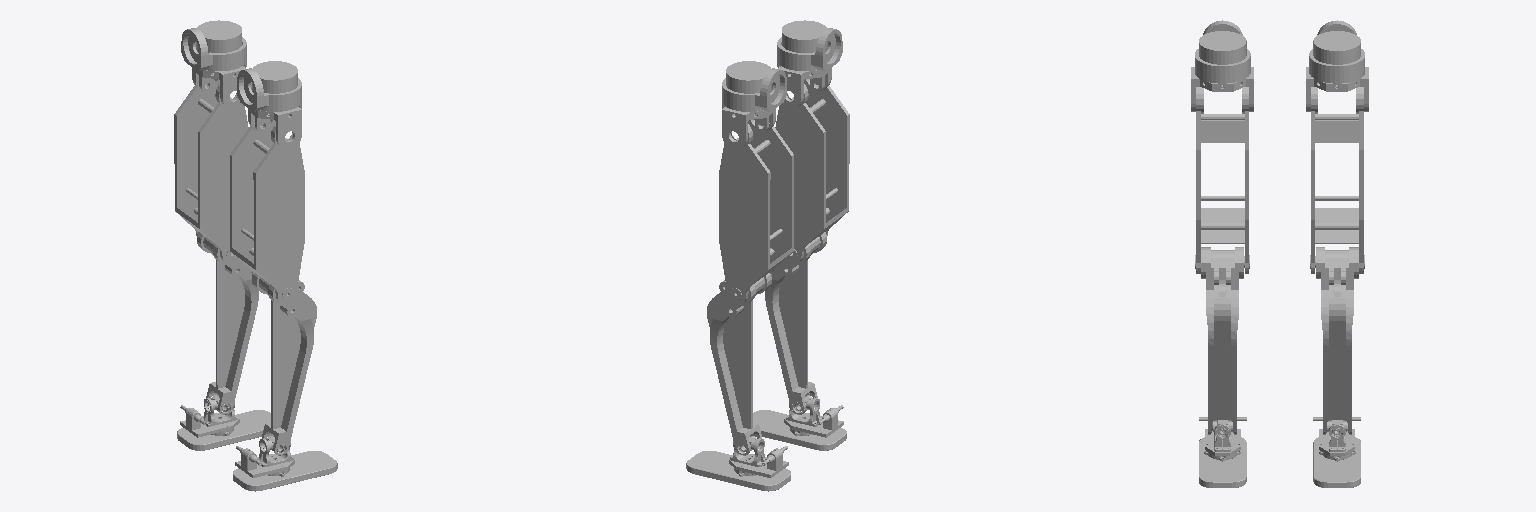
robot.urdf — URDF_simple:
<?xml version="1.0" encoding="utf-8"?>
<!-- This URDF was automatically created by SolidWorks to URDF Exporter! Originally created by [author] ([email redacted]) 
     Commit Version: 1.6.0-1-g15f4949  Build Version: 1.6.7594.29634
     For more information, please see http://wiki.ros.org/sw_urdf_exporter -->
<robot
  name="URDF_simple">

  <!-- <link
    name="world">
  </link>  
  <joint name="floating_joint"  type="floating">
    <origin rpy="0. 0. 0." xyz="0. 0. 0"/>
    <parent link="world" />
    <child  link="base_link" />
  </joint> -->
  <gazebo>
    <plugin name="gazebo_ros_control" filename="libhunter_bipedal_hw_sim.so">
      <robotNamespace>/</robotNamespace>
      <robotParam>legged_robot_description</robotParam>
      <robotSimType>legged_gazebo/LeggedHWSim</robotSimType>
    </plugin>
  </gazebo>

  <gazebo>
    <plugin filename="libgazebo_ros_p3d.so" name="p3d_base_controller">
      <alwaysOn>true</alwaysOn>
      <updateRate>500.0</updateRate>
      <bodyName>base_link</bodyName>
      <topicName>ground_truth/state</topicName>
      <gaussianNoise>0</gaussianNoise>
      <frameName>world</frameName>
      <xyzOffsets>0 0 0</xyzOffsets>
      <rpyOffsets>0 0 0</rpyOffsets>
    </plugin>
  </gazebo>



  <link
    name="base_link">
    <inertial>
      <origin
        xyz="-0.0102396246406552 0.00854684129585948 0.0332945972401038"
        rpy="0 0 0" />
      <mass
        value="46.7274022031895" />
      <inertia
        ixx="0.960922201093069"
        ixy="0.000109319164800288"
        ixz="0.0492534639952522"
        iyy="0.760619645967608"
        iyz="-0.000255202085830921"
        izz="0.432460212521213" />
    </inertial>
    <visual>
      <origin
        xyz="0 0 0"
        rpy="0 0 0" />
      <geometry>
        <mesh
          filename="package://URDF_simple/meshes/base_link.STL" />
      </geometry>
      <material
        name="">
        <color
          rgba="0.752941176470588 0.752941176470588 0.752941176470588 1" />
      </material>
    </visual>
    <collision>
      <origin
        xyz="0 0 0"
        rpy="0 0 0" />
      <geometry>
        <mesh
          filename="package://URDF_simple/meshes/base_link.STL" />
      </geometry>
    </collision>
  </link>

  <link
    name="LHipRoll_link">
    <inertial>
      <origin
        xyz="0.13021928809687 3.33066907387547E-16 -0.00888568839028298"
        rpy="0 0 0" />
      <mass
        value="1.69434323504352" />
      <inertia
        ixx="0.00199665914671213"
        ixy="-2.12485609700659E-19"
        ixz="0.000146534373681756"
        iyy="0.00223922130841761"
        iyz="-2.03786990884474E-19"
        izz="0.00300599284958996" />
    </inertial>
    <visual>
      <origin
        xyz="0 0 0"
        rpy="0 0 0" />
      <geometry>
        <mesh
          filename="package://URDF_simple/meshes/LHipRoll_link.STL" />
      </geometry>
      <material
        name="">
        <color
          rgba="0.752941176470588 0.752941176470588 0.752941176470588 1" />
      </material>
    </visual>
    <collision>
      <origin
        xyz="0 0 0"
        rpy="0 0 0" />
      <geometry>
        <mesh
          filename="package://URDF_simple/meshes/LHipRoll_link.STL" />
      </geometry>
    </collision>
  </link>
  <joint
    name="LHipRoll"
    type="revolute">
    <origin
      xyz="-0.122 0.12 -0.16643"
      rpy="0 0 0" />
    <parent
      link="base_link" />
    <child
      link="LHipRoll_link" />
    <axis
      xyz="1 0 0" />
    <limit
      lower="-3.14"
      upper="3.14"
      effort="1000"
      velocity="1000" />
  </joint>
  <link
    name="LHipYaw_link">
    <inertial>
      <origin
        xyz="-0.00269025547603879 1.11022302462516E-16 -0.0633712626847869"
        rpy="0 0 0" />
      <mass
        value="0.744057032961987" />
      <inertia
        ixx="0.001591459112424"
        ixy="-3.36057869246938E-20"
        ixz="-2.99060228521477E-05"
        iyy="0.000843060895021706"
        iyz="-2.60493997069846E-19"
        izz="0.00181197877707163" />
    </inertial>
    <visual>
      <origin
        xyz="0 0 0"
        rpy="0 0 0" />
      <geometry>
        <mesh
          filename="package://URDF_simple/meshes/LHipYaw_link.STL" />
      </geometry>
      <material
        name="">
        <color
          rgba="0.752941176470588 0.752941176470588 0.752941176470588 1" />
      </material>
    </visual>
    <collision>
      <origin
        xyz="0 0 0"
        rpy="0 0 0" />
      <geometry>
        <mesh
          filename="package://URDF_simple/meshes/LHipYaw_link.STL" />
      </geometry>
    </collision>
  </link>
  <joint
    name="LHipYaw"
    type="revolute">
    <origin
      xyz="0.135 0 -0.0029565"
      rpy="0 0 0" />
    <parent
      link="LHipRoll_link" />
    <child
      link="LHipYaw_link" />
    <axis
      xyz="0 0 1" />
    <limit
      lower="-3.14"
      upper="3.14"
      effort="1000"
      velocity="1000" />
  </joint>
  <link
    name="LHipPitch_link">
    <inertial>
      <origin
        xyz="-0.0168439785420255 -0.0610000000000015 -0.187953684008689"
        rpy="0 0 0" />
      <mass
        value="3.19020037536046" />
      <inertia
        ixx="0.0448919929501429"
        ixy="-3.2408522403589E-18"
        ixz="-0.00197401415020948"
        iyy="0.0410279037536727"
        iyz="3.00648495155626E-16"
        izz="0.011057403447688" />
    </inertial>
    <visual>
      <origin
        xyz="0 0 0"
        rpy="0 0 0" />
      <geometry>
        <mesh
          filename="package://URDF_simple/meshes/LHipPitch_link.STL" />
      </geometry>
      <material
        name="">
        <color
          rgba="0.752941176470588 0.752941176470588 0.752941176470588 1" />
      </material>
    </visual>
    <collision>
      <origin
        xyz="0 0 0"
        rpy="0 0 0" />
      <geometry>
        <mesh
          filename="package://URDF_simple/meshes/LHipPitch_link.STL" />
      </geometry>
    </collision>
  </link>
  <joint
    name="LHipPitch"
    type="revolute">
    <origin
      xyz="0 0.061 -0.101"
      rpy="0 0 0" />
    <parent
      link="LHipYaw_link" />
    <child
      link="LHipPitch_link" />
    <axis
      xyz="0 1 0" />
    <limit
      lower="-3.14"
      upper="3.14"
      effort="1000"
      velocity="1000" />
  </joint>
  <link
    name="LKneePitch_link">
    <inertial>
      <origin
        xyz="0.0349025911908908 -0.0554601382772695 -0.12480829356831"
        rpy="0 0 0" />
      <mass
        value="2.98268257269848" />
      <inertia
        ixx="0.0354601069454126"
        ixy="-9.37663403132723E-08"
        ixz="4.91066832515987E-05"
        iyy="0.0365565087036136"
        iyz="5.61041992304333E-08"
        izz="0.00327868744565483" />
    </inertial>
    <visual>
      <origin
        xyz="0 0 0"
        rpy="0 0 0" />
      <geometry>
        <mesh
          filename="package://URDF_simple/meshes/LKneePitch_link.STL" />
      </geometry>
      <material
        name="">
        <color
          rgba="0.752941176470588 0.752941176470588 0.752941176470588 1" />
      </material>
    </visual>
    <collision>
      <origin
        xyz="0 0 0"
        rpy="0 0 0" />
      <geometry>
        <mesh
          filename="package://URDF_simple/meshes/LKneePitch_link.STL" />
      </geometry>
    </collision>
  </link>
  <joint
    name="LKneePitch"
    type="revolute">
    <origin
      xyz="0.0001663 -0.0055 -0.38"
      rpy="0 0 0" />
    <parent
      link="LHipPitch_link" />
    <child
      link="LKneePitch_link" />
    <axis
      xyz="0 1 0" />
    <limit
      lower="-3.14"
      upper="3.14"
      effort="1000"
      velocity="1000" />
  </joint>
  <link
    name="LAnklePitch_link">
    <inertial>
      <origin
        xyz="1.52941798114981E-10 -0.0178499999976304 6.68354260824344E-14"
        rpy="0 0 0" />
      <mass
        value="0.259599480305956" />
      <inertia
        ixx="3.74006940089086E-05"
        ixy="-6.7133061834045E-17"
        ixz="-7.322581253912E-09"
        iyy="3.7400690644867E-05"
        iyz="1.5337500190006E-13"
        izz="5.41332571433322E-05" />
    </inertial>
    <visual>
      <origin
        xyz="0 0 0"
        rpy="0 0 0" />
      <geometry>
        <mesh
          filename="package://URDF_simple/meshes/LAnklePitch_link.STL" />
      </geometry>
      <material
        name="">
        <color
          rgba="0.752941176470588 0.752941176470588 0.752941176470588 1" />
      </material>
    </visual>
    <collision>
      <origin
        xyz="0 0 0"
        rpy="0 0 0" />
      <geometry>
        <mesh
          filename="package://URDF_simple/meshes/LAnklePitch_link.STL" />
      </geometry>
    </collision>
  </link>
  <joint
    name="LAnklePitch"
    type="revolute">
    <origin
      xyz="0.0001663 -0.03765 -0.38"
      rpy="0 0 0" />
    <parent
      link="LKneePitch_link" />
    <child
      link="LAnklePitch_link" />
    <axis
      xyz="0 1 0" />
    <limit
      lower="-3.14"
      upper="3.14"
      effort="1000"
      velocity="1000" />
  </joint>

  <!-- ************* part 6 *************** -->
  <joint
    name="LAnkleRoll"
    type="revolute">
    <origin
      xyz="0.01785 -0.01785 0"
      rpy="0 0 0" />
    <parent
      link="LAnklePitch_link" />
    <child
      link="LAnkleRoll_link" />
    <axis
      xyz="1 0 0.00043762" />
    <limit
      lower="-3.14"
      upper="3.14"
      effort="1000"
      velocity="1000" />
  </joint>
  <link
    name="LAnkleRoll_link">
    <inertial>
      <origin
        xyz="-0.00958187853867769 1.68361441710285E-05 -0.0593481777464786"
        rpy="0 0 0" />
      <mass
        value="1.71825340064192" />
      <inertia
        ixx="0.0010133350011228"
        ixy="-9.17868340566451E-07"
        ixz="2.94368797043498E-05"
        iyy="0.00420031756931061"
        iyz="-2.43706567584623E-09"
        izz="0.00508044717228725" />
    </inertial>
    <visual>
      <origin
        xyz="0 0 0"
        rpy="0 0 0" />
      <geometry>
        <mesh
          filename="package://URDF_simple/meshes/LAnkleRoll_link.STL" />
      </geometry>
      <material
        name="">
        <color
          rgba="0.752941176470588 0.752941176470588 0.752941176470588 1" />
      </material>
    </visual>
    <collision>
      <origin
        xyz="0 0 0"
        rpy="0 0 0" />
      <geometry>
        <mesh
          filename="package://URDF_simple/meshes/LAnkleRoll_link.STL" />
      </geometry>
    </collision>
  </link>
 
  <!-- ************* part 7 *************** --> 
  <joint name="l_foot_fixed_1" type="fixed">
    <origin xyz="0.13 0 -0.08" rpy="0 0 0" />
    <parent link="LAnkleRoll_link" />
    <child link="l_foot_fixed_link1" />
  </joint>
  <link name="l_foot_fixed_link1">
    <inertial>
      <mass value="0.01" />
      <inertia ixx="0.000001" ixy="0" ixz="0" iyy="0.000001" iyz="0" izz="0.000001" />
    </inertial>
    <visual>
      <origin rpy="0 0 0" xyz="0 0 0"/>
      <geometry>
        <sphere radius="0.001"/>
      </geometry>
    </visual>
    <collision>
      <origin rpy="0 0 0" xyz="0 0 0"/>
      <geometry>
        <sphere radius="0.001"/>
      </geometry>
    </collision>
  </link>


  <link
    name="RHipRoll_link">
    <inertial>
      <origin
        xyz="0.13021928809687 1.11022302462516E-16 -0.00888568839028285"
        rpy="0 0 0" />
      <mass
        value="1.69434323504352" />
      <inertia
        ixx="0.00199665914671213"
        ixy="-2.62275640677723E-19"
        ixz="0.000146534373681757"
        iyy="0.00223922130841761"
        iyz="-4.00059824495263E-19"
        izz="0.00300599284958996" />
    </inertial>
    <visual>
      <origin
        xyz="0 0 0"
        rpy="0 0 0" />
      <geometry>
        <mesh
          filename="package://URDF_simple/meshes/RHipRoll_link.STL" />
      </geometry>
      <material
        name="">
        <color
          rgba="0.752941176470588 0.752941176470588 0.752941176470588 1" />
      </material>
    </visual>
    <collision>
      <origin
        xyz="0 0 0"
        rpy="0 0 0" />
      <geometry>
        <mesh
          filename="package://URDF_simple/meshes/RHipRoll_link.STL" />
      </geometry>
    </collision>
  </link>
  <joint
    name="RHipRoll"
    type="revolute">
    <origin
      xyz="-0.122 -0.12 -0.16643"
      rpy="0 0 0" />
    <parent
      link="base_link" />
    <child
      link="RHipRoll_link" />
    <axis
      xyz="1 0 0" />
    <limit
      lower="-3.14"
      upper="3.14"
      effort="1000"
      velocity="1000" />
  </joint>
  <link
    name="RHipYaw_link">
    <inertial>
      <origin
        xyz="-0.00269025547603881 1.11022302462516E-16 -0.0633712626847868"
        rpy="0 0 0" />
      <mass
        value="0.744057032961986" />
      <inertia
        ixx="0.001591459112424"
        ixy="-1.51087704206769E-19"
        ixz="-2.99060228521479E-05"
        iyy="0.000843060895021705"
        iyz="3.86097413268211E-19"
        izz="0.00181197877707162" />
    </inertial>
    <visual>
      <origin
        xyz="0 0 0"
        rpy="0 0 0" />
      <geometry>
        <mesh
          filename="package://URDF_simple/meshes/RHipYaw_link.STL" />
      </geometry>
      <material
        name="">
        <color
          rgba="0.752941176470588 0.752941176470588 0.752941176470588 1" />
      </material>
    </visual>
    <collision>
      <origin
        xyz="0 0 0"
        rpy="0 0 0" />
      <geometry>
        <mesh
          filename="package://URDF_simple/meshes/RHipYaw_link.STL" />
      </geometry>
    </collision>
  </link>
  <joint
    name="RHipYaw"
    type="revolute">
    <origin
      xyz="0.135 0 -0.0029565"
      rpy="0 0 0" />
    <parent
      link="RHipRoll_link" />
    <child
      link="RHipYaw_link" />
    <axis
      xyz="0 0 1" />
    <limit
      lower="-3.14"
      upper="3.14"
      effort="1000"
      velocity="1000" />
  </joint>
  <link
    name="RHipPitch_link">
    <inertial>
      <origin
        xyz="-0.0168439785420255 0.0610000000000008 -0.187953684008689"
        rpy="0 0 0" />
      <mass
        value="3.19020037536046" />
      <inertia
        ixx="0.0448919929501428"
        ixy="7.29738664808629E-18"
        ixz="-0.0019740141502095"
        iyy="0.0410279037536726"
        iyz="-3.20880601577436E-16"
        izz="0.011057403447688" />
    </inertial>
    <visual>
      <origin
        xyz="0 0 0"
        rpy="0 0 0" />
      <geometry>
        <mesh
          filename="package://URDF_simple/meshes/RHipPitch_link.STL" />
      </geometry>
      <material
        name="">
        <color
          rgba="0.752941176470588 0.752941176470588 0.752941176470588 1" />
      </material>
    </visual>
    <collision>
      <origin
        xyz="0 0 0"
        rpy="0 0 0" />
      <geometry>
        <mesh
          filename="package://URDF_simple/meshes/RHipPitch_link.STL" />
      </geometry>
    </collision>
  </link>
  <joint
    name="RHipPitch"
    type="revolute">
    <origin
      xyz="0 -0.061 -0.101"
      rpy="0 0 0" />
    <parent
      link="RHipYaw_link" />
    <child
      link="RHipPitch_link" />
    <axis
      xyz="0 1 0" />
    <limit
      lower="-3.14"
      upper="3.14"
      effort="1000"
      velocity="1000" />
  </joint>
  <link
    name="RKneePitch_link">
    <inertial>
      <origin
        xyz="0.0349032514571332 0.0554602896633632 -0.124807783452119"
        rpy="0 0 0" />
      <mass
        value="2.9826686024511" />
      <inertia
        ixx="0.0354601272813468"
        ixy="9.30925198383976E-08"
        ixz="4.90193351948076E-05"
        iyy="0.0365564319398728"
        iyz="-3.73532507216229E-08"
        izz="0.00327857825019684" />
    </inertial>
    <visual>
      <origin
        xyz="0 0 0"
        rpy="0 0 0" />
      <geometry>
        <mesh
          filename="package://URDF_simple/meshes/RKneePitch_link.STL" />
      </geometry>
      <material
        name="">
        <color
          rgba="0.752941176470588 0.752941176470588 0.752941176470588 1" />
      </material>
    </visual>
    <collision>
      <origin
        xyz="0 0 0"
        rpy="0 0 0" />
      <geometry>
        <mesh
          filename="package://URDF_simple/meshes/RKneePitch_link.STL" />
      </geometry>
    </collision>
  </link>
  <joint
    name="RKneePitch"
    type="revolute">
    <origin
      xyz="0.0001663 0.0055 -0.38"
      rpy="0 0 0" />
    <parent
      link="RHipPitch_link" />
    <child
      link="RKneePitch_link" />
    <axis
      xyz="0 1 0" />
    <limit
      lower="-3.14"
      upper="3.14"
      effort="1000"
      velocity="1000" />
  </joint>
  <link
    name="RAnklePitch_link">
    <inertial>
      <origin
        xyz="1.52941798114981E-10 0.0178499999976304 6.67244037799719E-14"
        rpy="0 0 0" />
      <mass
        value="0.259599480305955" />
      <inertia
        ixx="3.74006940089085E-05"
        ixy="-6.71086737132119E-17"
        ixz="-7.3225812539616E-09"
        iyy="3.7400690644867E-05"
        iyz="1.53374995512301E-13"
        izz="5.41332571433322E-05" />
    </inertial>
    <visual>
      <origin
        xyz="0 0 0"
        rpy="0 0 0" />
      <geometry>
        <mesh
          filename="package://URDF_simple/meshes/RAnklePitch_link.STL" />
      </geometry>
      <material
        name="">
        <color
          rgba="0.752941176470588 0.752941176470588 0.752941176470588 1" />
      </material>
    </visual>
    <collision>
      <origin
        xyz="0 0 0"
        rpy="0 0 0" />
      <geometry>
        <mesh
          filename="package://URDF_simple/meshes/RAnklePitch_link.STL" />
      </geometry>
    </collision>
  </link>
  <joint
    name="RAnklePitch"
    type="revolute">
    <origin
      xyz="0.0001663 0.03765 -0.38"
      rpy="0 0 0" />
    <parent
      link="RKneePitch_link" />
    <child
      link="RAnklePitch_link" />
    <axis
      xyz="0 1 0" />
    <limit
      lower="-3.14"
      upper="3.14"
      effort="1000"
      velocity="1000" />
  </joint>
  <link
    name="RAnkleRoll_link">
    <inertial>
      <origin
        xyz="-0.00958187755410376 -1.68363041334052E-05 -0.0593481795417476"
        rpy="0 0 0" />
      <mass
        value="1.71825338964616" />
      <inertia
        ixx="0.00101333505443478"
        ixy="9.17845761841393E-07"
        ixz="2.94368873886114E-05"
        iyy="0.00420031763194787"
        iyz="2.43882658005261E-09"
        izz="0.0050804471685631" />
    </inertial>
    <visual>
      <origin
        xyz="0 0 0"
        rpy="0 0 0" />
      <geometry>
        <mesh
          filename="package://URDF_simple/meshes/RAnkleRoll_link.STL" />
      </geometry>
      <material
        name="">
        <color
          rgba="0.752941176470588 0.752941176470588 0.752941176470588 1" />
      </material>
    </visual>
    <collision>
      <origin
        xyz="0 0 0"
        rpy="0 0 0" />
      <geometry>
        <mesh
          filename="package://URDF_simple/meshes/RAnkleRoll_link.STL" />
      </geometry>
    </collision>
  </link>
  <joint
    name="RAnkleRoll"
    type="revolute">
    <origin
      xyz="0.01785 0.01785 0"
      rpy="0 0 0" />
    <parent
      link="RAnklePitch_link" />
    <child
      link="RAnkleRoll_link" />
    <axis
      xyz="1 0 0.00043762" />
    <limit
      lower="-3.14"
      upper="3.14"
      effort="1000"
      velocity="1000" />
  </joint>
 
  <!-- ************* part 7 *************** --> 
  <joint name="r_foot_fixed_1" type="fixed">
    <origin xyz="0.13 0 -0.08" rpy="0 0 0" />
    <parent link="RAnkleRoll_link" />
    <child link="r_foot_fixed_link1" />
  </joint>
  <link name="r_foot_fixed_link1">
    <inertial>
      <mass value="0.01" />
      <inertia ixx="0.000001" ixy="0" ixz="0" iyy="0.000001" iyz="0" izz="0.000001" />
    </inertial>
    <visual>
      <origin rpy="0 0 0" xyz="0 0 0"/>
      <geometry>
        <sphere radius="0.001"/>
      </geometry>
    </visual>
    <collision>
      <origin rpy="0 0 0" xyz="0 0 0"/>
      <geometry>
        <sphere radius="0.001"/>
      </geometry>
    </collision>
  </link>



</robot>

--- Render facts (derived) ---
The picture shows the robot from 3 angles, left to right: view 1: azimuth 30°, elevation 25°; view 2: azimuth 150°, elevation 25°; view 3: azimuth 270°, elevation 25°; orthographic projection.
Robot: URDF_simple — 15 links, 14 joints (12 revolute, 2 fixed); root link base_link; default pose: every joint at zero.
Links seen in each view (by area): view 1: RHipPitch_link, LHipPitch_link, RKneePitch_link, LKneePitch_link, RAnkleRoll_link, LAnkleRoll_link, LHipRoll_link, RHipRoll_link, RHipYaw_link, LHipYaw_link; view 2: LHipPitch_link, RHipPitch_link, LKneePitch_link, RKneePitch_link, LAnkleRoll_link, RAnkleRoll_link, LHipRoll_link, RHipRoll_link, LHipYaw_link, RHipYaw_link; view 3: LKneePitch_link, RKneePitch_link, LHipPitch_link, RHipPitch_link, LHipRoll_link, RHipRoll_link, LAnkleRoll_link, RAnkleRoll_link, LHipYaw_link, RHipYaw_link.
Boxes of the visible links, x1,y1,x2,y2 form: RHipPitch_link: (230, 120, 304, 304); LHipPitch_link: (174, 79, 248, 263); RKneePitch_link: (252, 273, 316, 455); LKneePitch_link: (197, 232, 258, 414); RAnkleRoll_link: (233, 438, 337, 491); LAnkleRoll_link: (177, 398, 270, 450); LHipRoll_link: (181, 20, 246, 70); RHipRoll_link: (237, 61, 301, 111); RHipYaw_link: (248, 103, 301, 149); LHipYaw_link: (192, 61, 246, 108); LHipPitch_link: (719, 120, 793, 304); RHipPitch_link: (775, 79, 849, 263); LKneePitch_link: (707, 273, 771, 455); RKneePitch_link: (765, 232, 826, 414); LAnkleRoll_link: (686, 438, 790, 491); RAnkleRoll_link: (753, 398, 846, 450); LHipRoll_link: (722, 61, 786, 111); RHipRoll_link: (777, 20, 842, 70); LHipYaw_link: (722, 103, 775, 149); RHipYaw_link: (777, 61, 831, 108); LKneePitch_link: (1310, 247, 1364, 434); RKneePitch_link: (1195, 247, 1249, 434); LHipPitch_link: (1311, 87, 1363, 273); RHipPitch_link: (1196, 87, 1248, 273); LHipRoll_link: (1309, 20, 1364, 83); RHipRoll_link: (1195, 20, 1250, 83); LAnkleRoll_link: (1313, 417, 1360, 487); RAnkleRoll_link: (1199, 417, 1246, 487); LHipYaw_link: (1306, 67, 1368, 111); RHipYaw_link: (1191, 67, 1253, 111).
Size in the robot's own frame: 0.2388 by 0.372 by 0.987 metres.
12 mesh visuals loaded from 13 distinct referenced files (12 binary STL); not drawn: 1 (reference not matched to a file when rendering).
